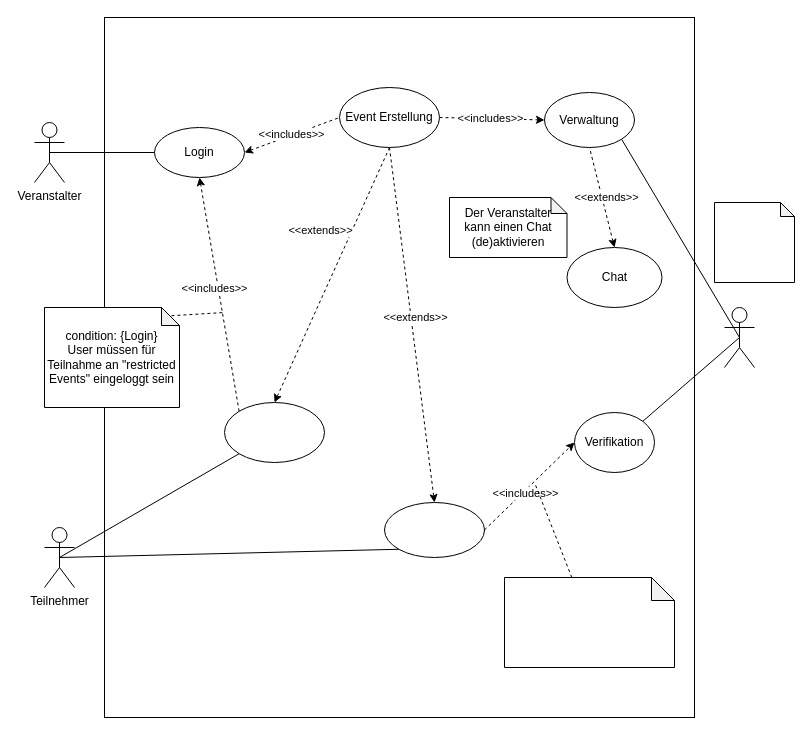
Image size: 812x735. Some labels were removed from this diagram. Each missing label, with the centre of its shape:
"Admin" belongs at (x=739, y=337).
"Admins können alle Events verwalten" belongs at (x=754, y=242).
"condition: {Verifikation} Public Events müssen von einem Admin genehmigt werden" belongs at (x=589, y=622).
"Public Events" belongs at (x=434, y=530).
"Restricted Events" belongs at (x=274, y=432).
